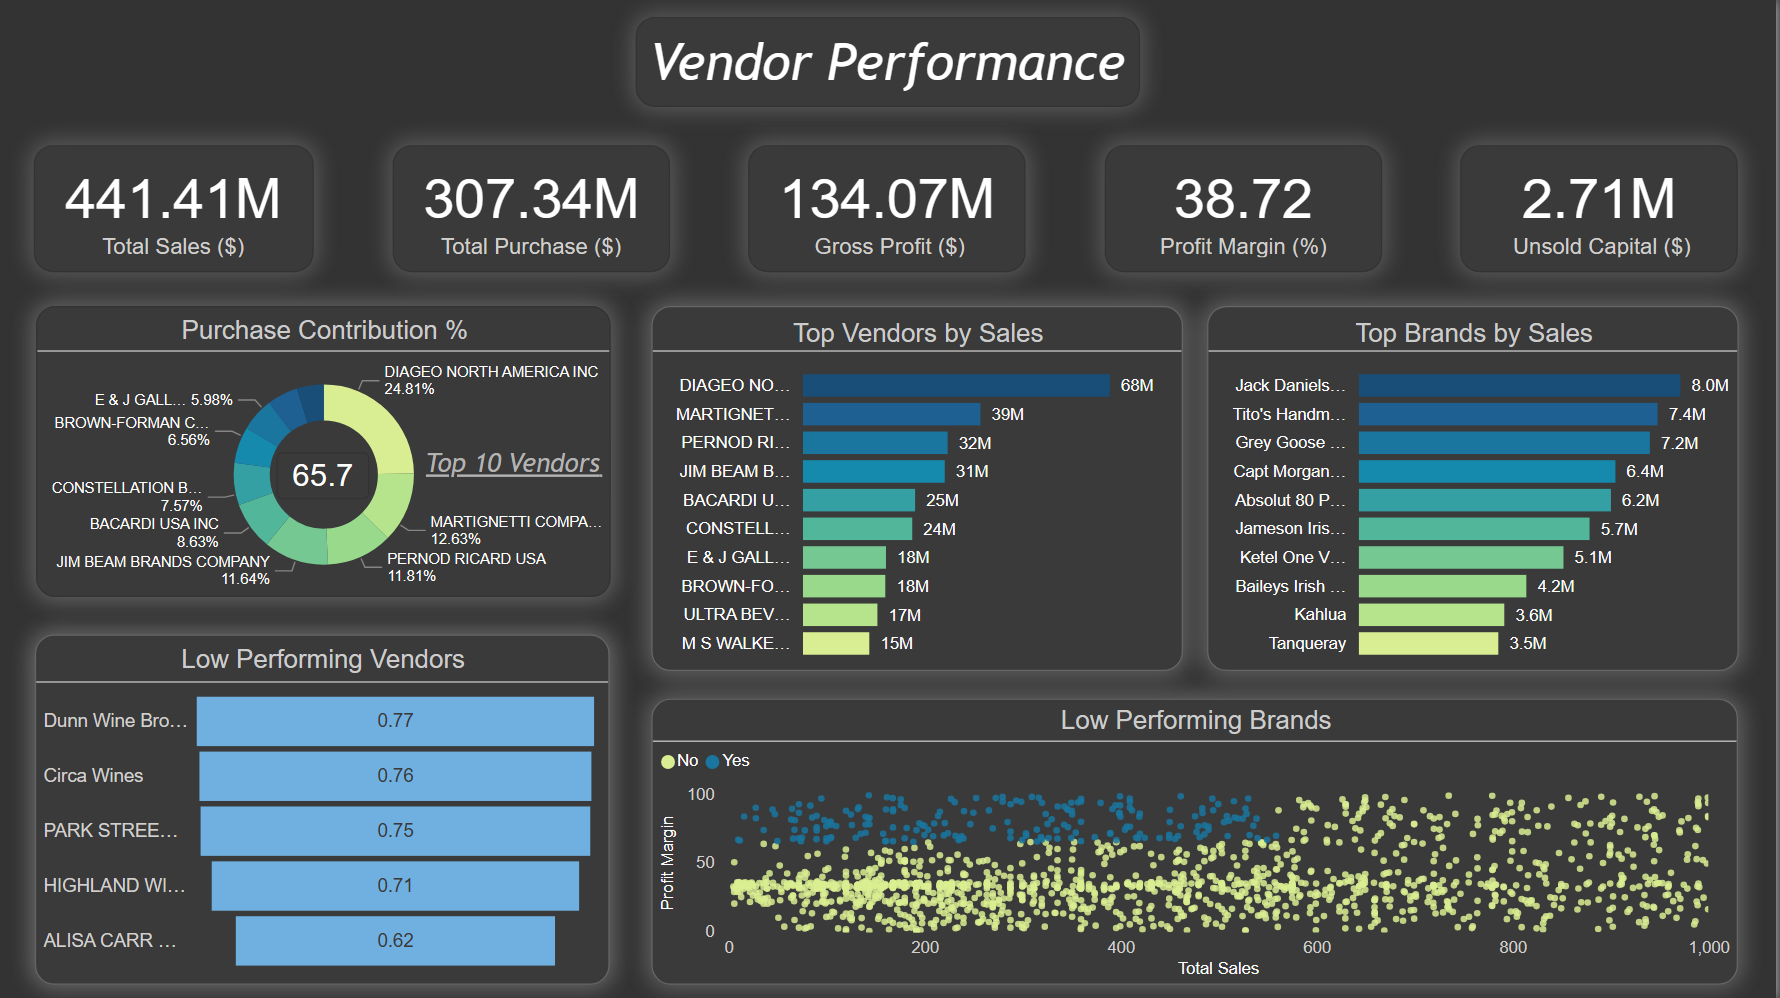

What the dashboard file says about the page in this screenshot:
{"tool":"powerbi","page":{"name":"Main","canvas":[1280,720],"ordinal":0},"visuals":[{"type":"card","fields":{"Values":["Sum(Vendor_Sales_Summary.TotalSalesDollars)"]},"box":[24.7,104.3,201.7,91.9],"z":0},{"type":"card","fields":{"Values":["Sum(Vendor_Sales_Summary.TotalPurchaseDollars)"]},"box":[282.7,104.3,200.3,91.9],"z":1000},{"type":"card","fields":{"Values":["Sum(Vendor_Sales_Summary.GrossProfit)"]},"box":[539.3,104.3,200.3,91.9],"z":2000},{"type":"card","fields":{"Values":["Avg(Vendor_Sales_Summary.ProfitMargin)"]},"box":[795.9,104.3,200.3,91.9],"z":3000},{"type":"card","fields":{"Values":["Sum(Vendor_Sales_Summary.UnsoldCapital)"]},"box":[1052.5,104.3,200.3,91.9],"z":4000},{"type":"textbox","box":[458.4,12.1,363.1,65.1],"z":5000},{"type":"donutChart","title":"Purchase Contribution %","fields":{"Category":["PurchaseContribution.VendorName"],"Y":["Sum(PurchaseContribution.PurchaseContribution%)"]},"box":[26.1,220.9,414.4,209.9],"z":6000},{"type":"textbox","box":[301.6,317.3,137.5,42.2],"z":7000},{"type":"card","fields":{"Values":["Sum(PurchaseContribution.PurchaseContribution%)"]},"box":[199.1,325.7,66.4,33.8],"z":8000},{"type":"barChart","title":"Top Vendors by Sales","fields":{"Category":["Vendor_Sales_Summary.VendorName"],"Y":["Sum(Vendor_Sales_Summary.TotalSalesDollars)"]},"box":[469.3,220.9,382.8,263.5],"z":8001},{"type":"funnel","title":"Low Performing Vendors","fields":{"Y":["Sum(LowTurnoverrVendor.AverageStockTurnover)"],"Category":["LowTurnoverrVendor.VendorName"]},"box":[25.3,457.2,413.8,252.1],"z":8003},{"type":"barChart","title":"Top Vendors by Sales","fields":{"Y":["Sum(Vendor_Sales_Summary.TotalSalesDollars)"],"Category":["Vendor_Sales_Summary.Description"]},"box":[870,220.9,382.8,263.5],"z":8004},{"type":"scatterChart","title":"Low Performing Brands","fields":{"Category":["BrandPerformance.Description"],"X":["Sum(BrandPerformance.Total Sales)"],"Y":["Sum(BrandPerformance.Average ProfitMargin)"],"Series":["BrandPerformance.TargetBrand"]},"box":[469.3,503.6,783.5,205.8],"z":8005}]}

Visuals, with their boxes in screenshot pixels (x1, y1, x2, y2), scaled from the page's 1280x720 canvas onto the 1780x998 screenshot:
card - Sum(Vendor_Sales_Summary.TotalSalesDollars): <region>34, 145, 315, 272</region>
card - Sum(Vendor_Sales_Summary.TotalPurchaseDollars): <region>393, 145, 672, 272</region>
card - Sum(Vendor_Sales_Summary.GrossProfit): <region>750, 145, 1029, 272</region>
card - Avg(Vendor_Sales_Summary.ProfitMargin): <region>1107, 145, 1385, 272</region>
card - Sum(Vendor_Sales_Summary.UnsoldCapital): <region>1464, 145, 1742, 272</region>
textbox: <region>637, 17, 1142, 107</region>
"Purchase Contribution %" donutChart: <region>36, 306, 613, 597</region>
textbox: <region>419, 440, 611, 498</region>
card - Sum(PurchaseContribution.PurchaseContribution%): <region>277, 451, 369, 498</region>
"Top Vendors by Sales" barChart: <region>653, 306, 1185, 671</region>
"Low Performing Vendors" funnel: <region>35, 634, 611, 983</region>
"Top Vendors by Sales" barChart: <region>1210, 306, 1742, 671</region>
"Low Performing Brands" scatterChart: <region>653, 698, 1742, 983</region>
